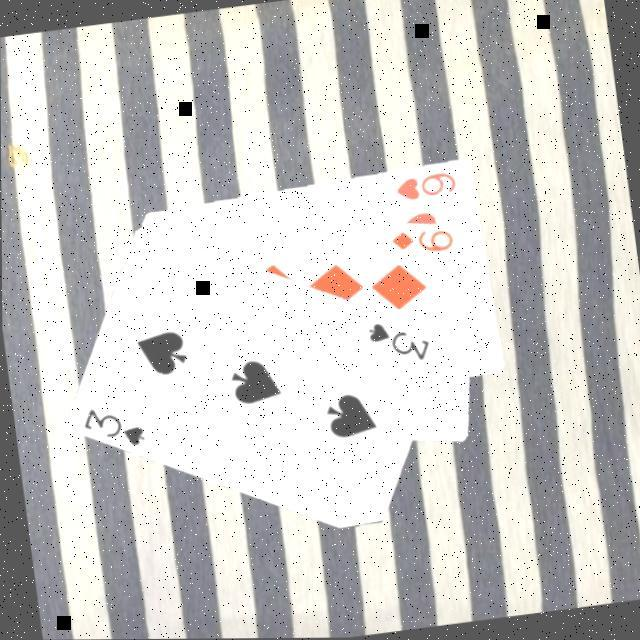3S: (360, 314, 432, 372), (76, 400, 148, 458)
6H: (388, 168, 458, 206)
9D: (385, 224, 456, 262)
